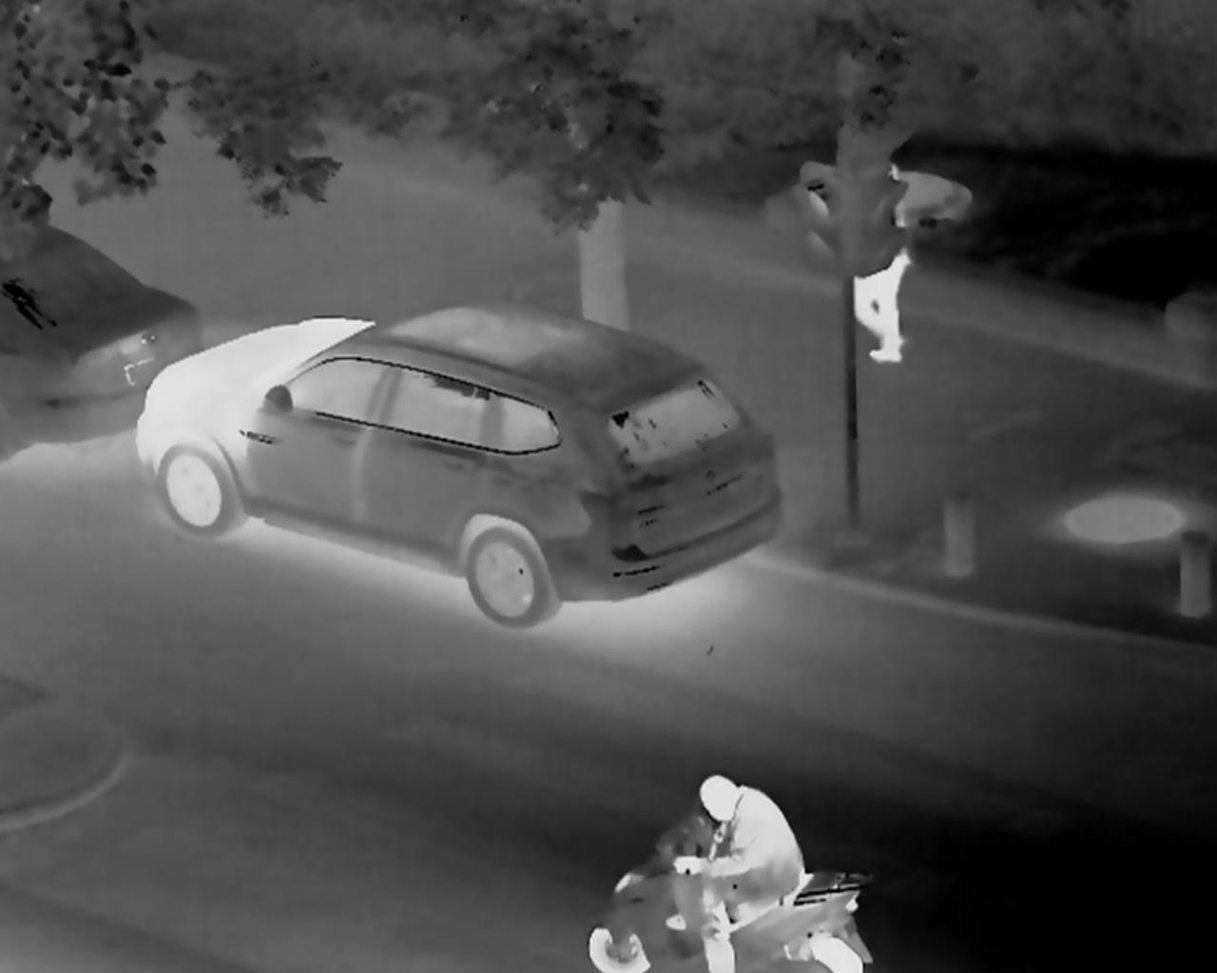person: (657, 763, 814, 973), (865, 174, 924, 370)
